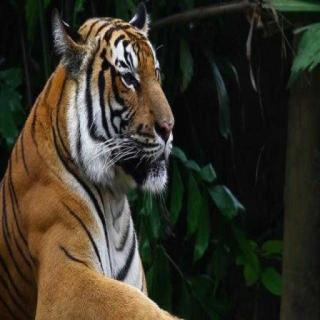Tiger: (0, 0, 193, 320)
